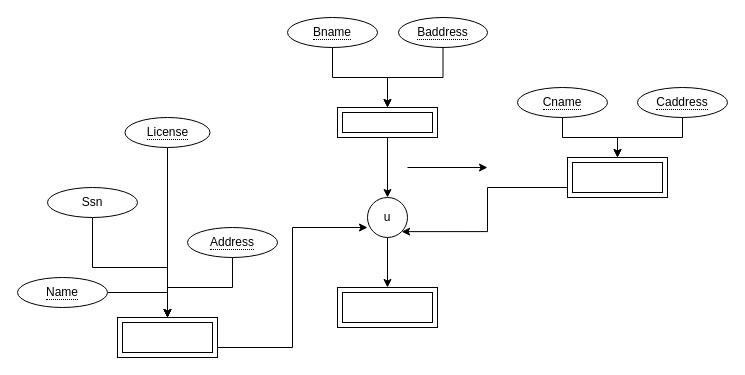
The diagram is 745 pixels wide and 375 high, and some of its shapes have lost their labels. Here are the shapes that lost their labels. From the top down, the box of each, then its label:
(336, 106, 438, 138): Bank
(566, 156, 668, 198): Company
(336, 286, 438, 328): Owner
(116, 316, 218, 358): People
